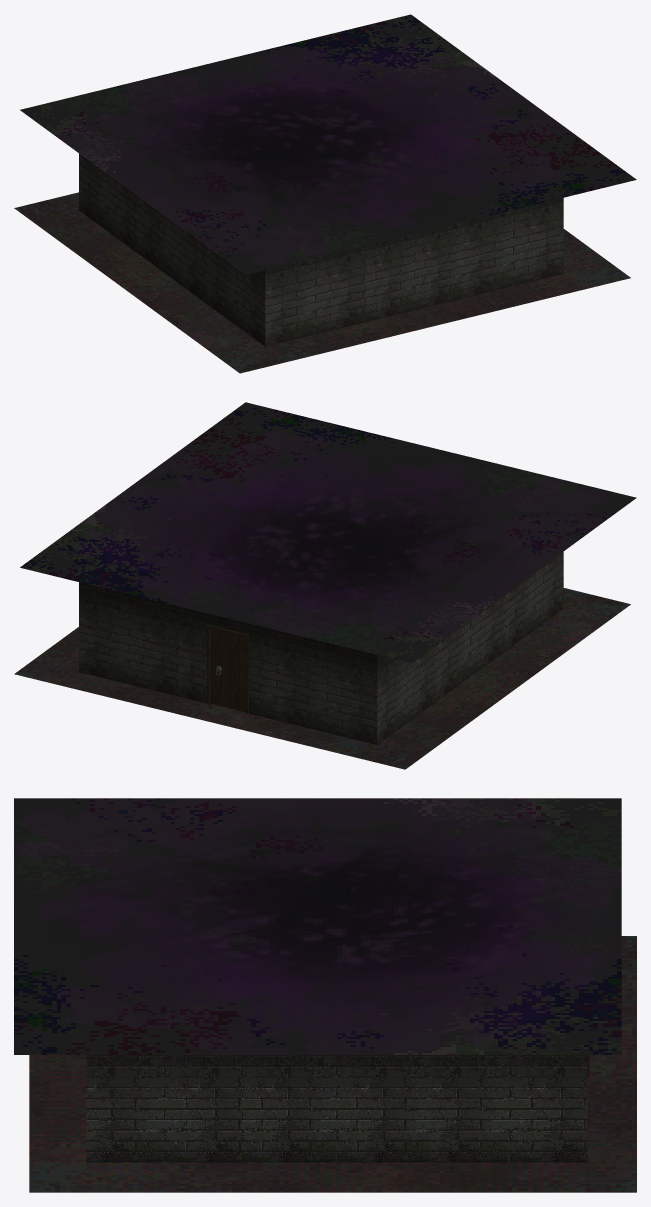
The model's file is starterRoom.gltf.
The picture shows the model from 3 angles, top to bottom: view 1: azimuth 30°, elevation 25°; view 2: azimuth 150°, elevation 25°; view 3: azimuth 270°, elevation 25°; orthographic projection. The views are drawn at different scales.
Visible parts, largest first — view 1: Plane, Plane2, WallCorner23, WallCorner2, Wall2, Wall23, WallCorner24; view 2: Plane, Plane2, WallCorner24, WallCorner22, WallDoorFrame2, Wall23, WallCorner23, Door2; view 3: Plane, Plane2, Wall22, WallCorner22, WallCorner2.
Part boxes in pixels (x1,y1,x2,y2): Plane: [20, 14, 636, 275]; Plane2: [14, 192, 630, 373]; WallCorner23: [207, 217, 365, 346]; WallCorner2: [463, 129, 563, 298]; Wall2: [365, 222, 463, 321]; Wall23: [136, 196, 207, 303]; WallCorner24: [79, 153, 136, 252]; Plane: [20, 402, 636, 662]; Plane2: [14, 588, 630, 769]; WallCorner24: [277, 630, 435, 744]; WallCorner22: [79, 582, 178, 696]; WallDoorFrame2: [179, 606, 276, 720]; Wall23: [435, 594, 505, 701]; WallCorner23: [505, 551, 563, 650]; Door2: [210, 629, 245, 712]; Plane: [14, 798, 621, 1054]; Plane2: [29, 936, 636, 1192]; Wall22: [242, 1055, 431, 1162]; WallCorner22: [431, 1055, 587, 1162]; WallCorner2: [86, 1055, 241, 1162].
Bounding box in the file's own units: 16 × 4 × 16.4.
14 materials, 13 textured.
